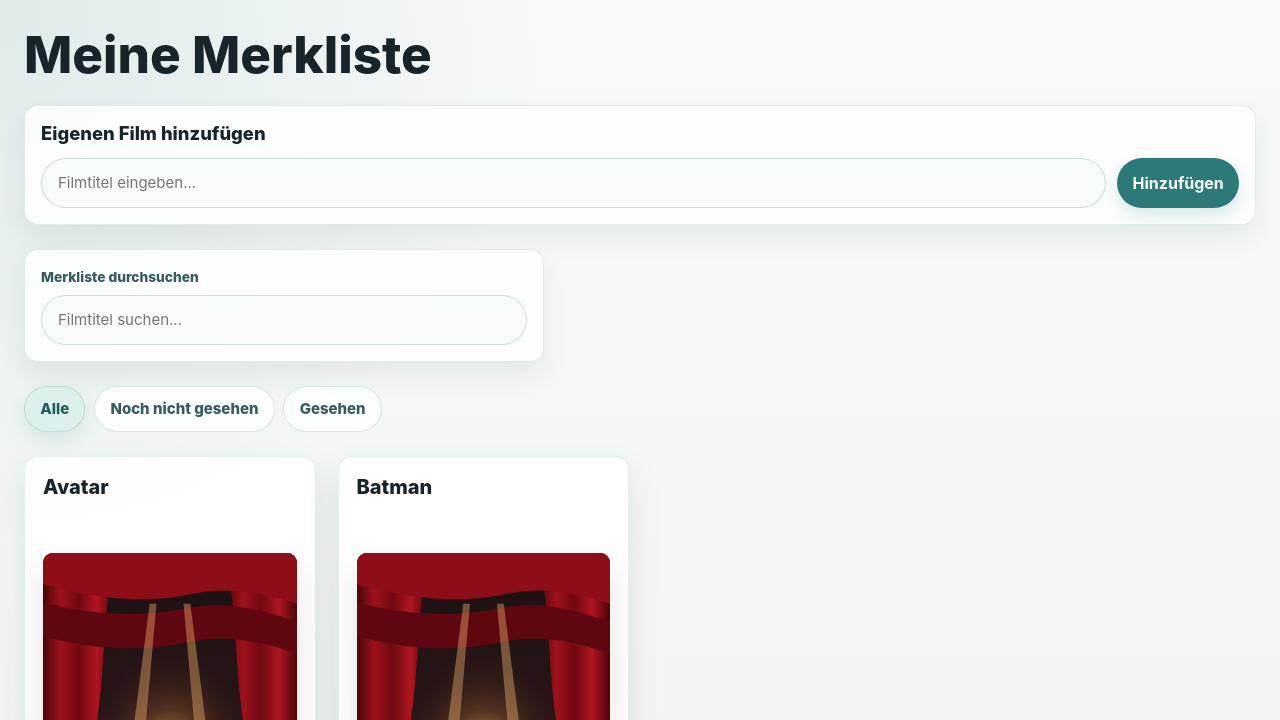
Test case: Watchlist › filters watchlist by search text
Type "Bat" into the search field with id "watchlist-search".
click(284, 320); type("Bat")  # box [41,295,527,345]
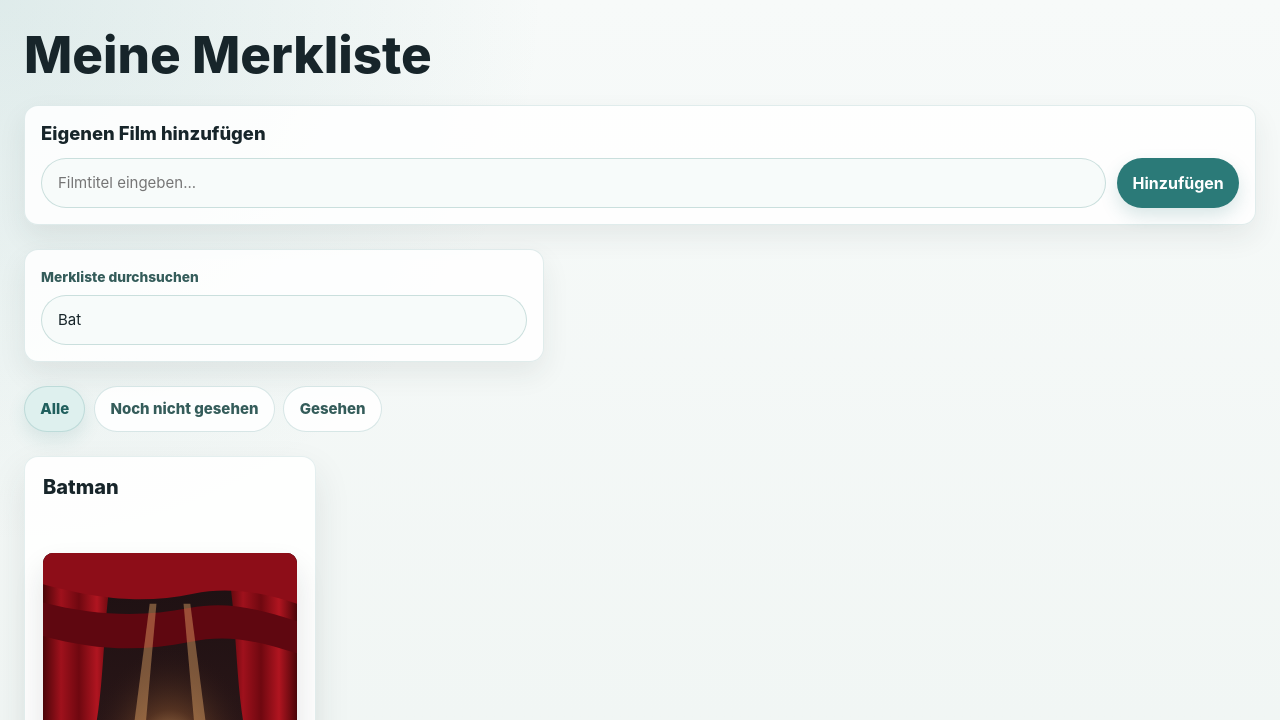
Check: the text "Batman" is shown, box [43,474,119,498]
Check: the text "Avatar" is gone
